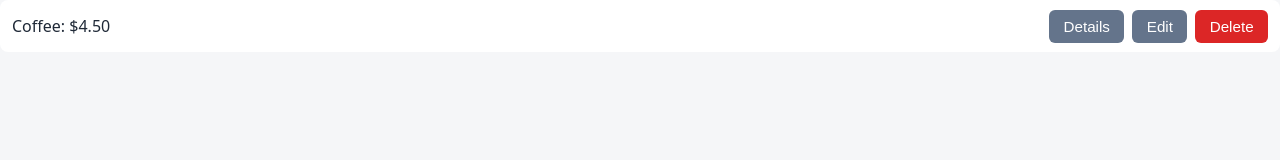
it: ExpenseItem › asks for confirmation before deleting
Click the button "Delete".
click(1232, 26)  # box [1195,10,1268,43]
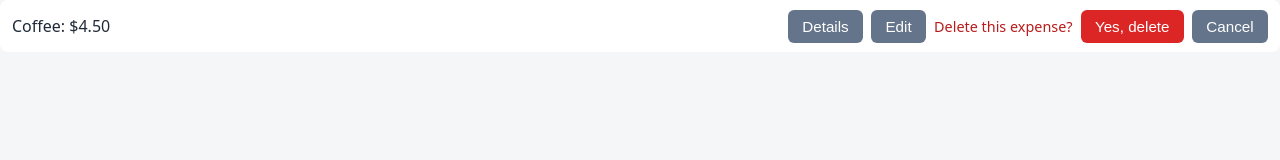
Now the text "Delete this expense?" is shown, box [934,17,1072,36]
